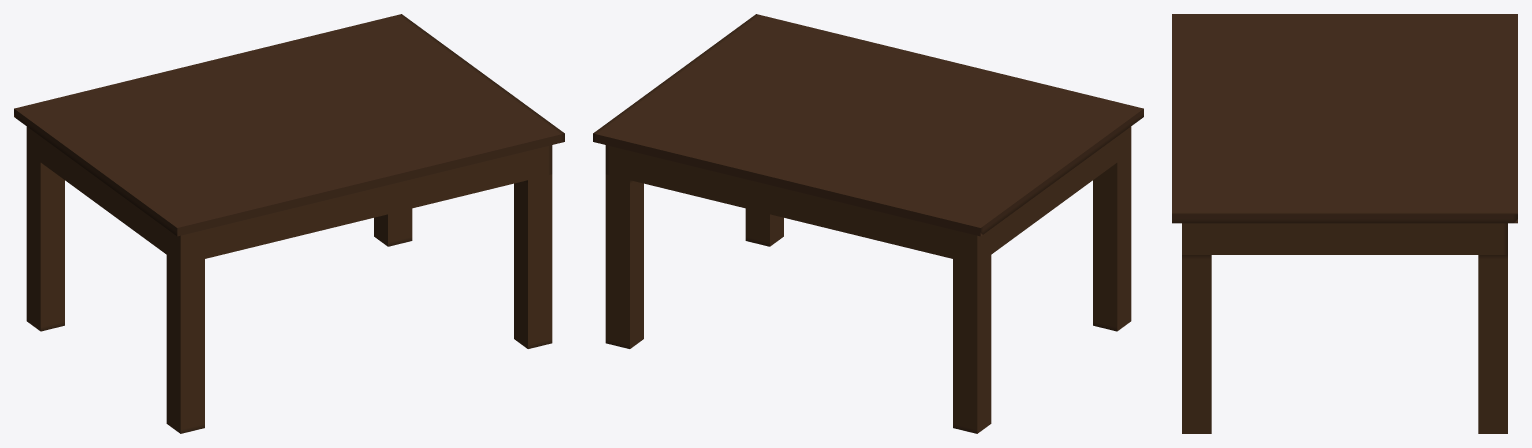
File: stolik_poczta.dae
3 renders of one model, left to right at view 1: azimuth 30°, elevation 25°; view 2: azimuth 150°, elevation 25°; view 3: azimuth 270°, elevation 25°, orthographic. The views are drawn at different scales.
Parts seen in each view (by area): view 1: Content; view 2: Content; view 3: Content.
Part boxes in pixels (x1=…): Content: x1=14, y1=14, x2=564, y2=433; Content: x1=593, y1=14, x2=1143, y2=433; Content: x1=1172, y1=14, x2=1517, y2=433.
Size of the model in its own units: 48 by 25 by 35.
1 material, 1 textured.
